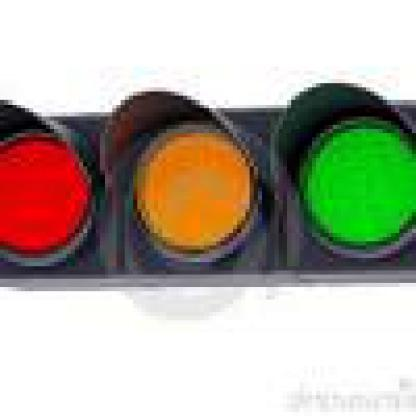traffic-light: (4, 100, 412, 279)
